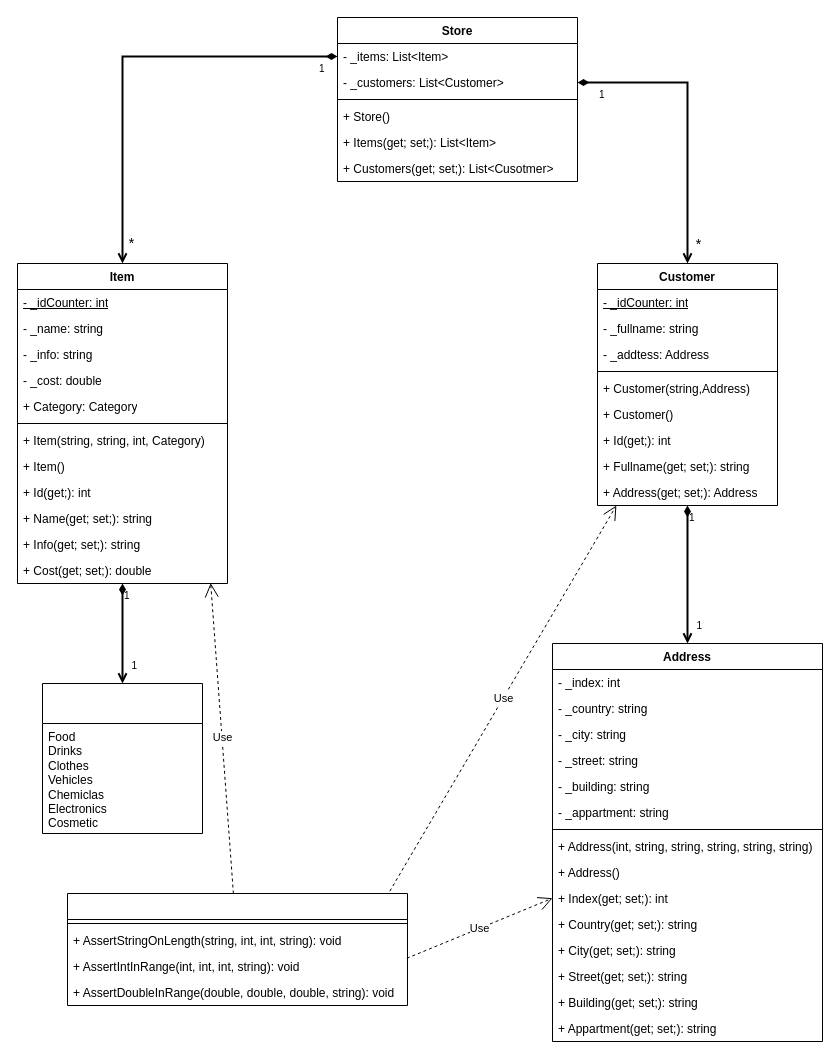
This 840x1062 diagram has some shape labels left out. Here are the shapes that lost their labels. From the top down, the box of each, then its label:
(42, 682, 202, 834): <<enumeration>> Category
(66, 892, 408, 1006): ValueValidator
